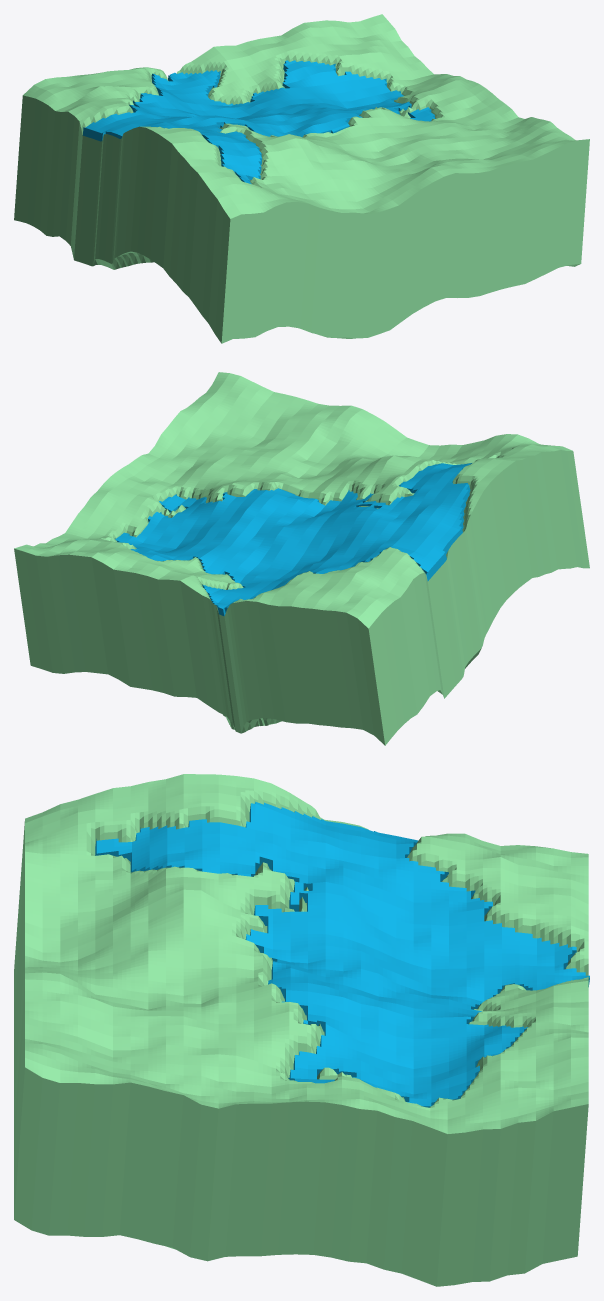
File: umiam.glb
The picture shows the model from 3 angles, top to bottom: view 1: azimuth 30°, elevation 25°; view 2: azimuth 150°, elevation 25°; view 3: azimuth 270°, elevation 25°; orthographic projection. The views are drawn at different scales.
Parts seen in each view (by area): view 1: Plane, Plane.001; view 2: Plane, Plane.001; view 3: Plane, Plane.001.
Boxes of the visible parts, x1=… form: Plane: x1=14, y1=14, x2=589, y2=343; Plane.001: x1=82, y1=60, x2=435, y2=184; Plane: x1=14, y1=372, x2=589, y2=745; Plane.001: x1=115, y1=463, x2=471, y2=616; Plane: x1=14, y1=774, x2=588, y2=1286; Plane.001: x1=95, y1=801, x2=589, y2=1107.
Size of the model in its own units: 63.55 by 35.74 by 62.7.
